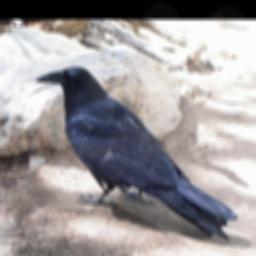Crow: (33, 64, 236, 243)
